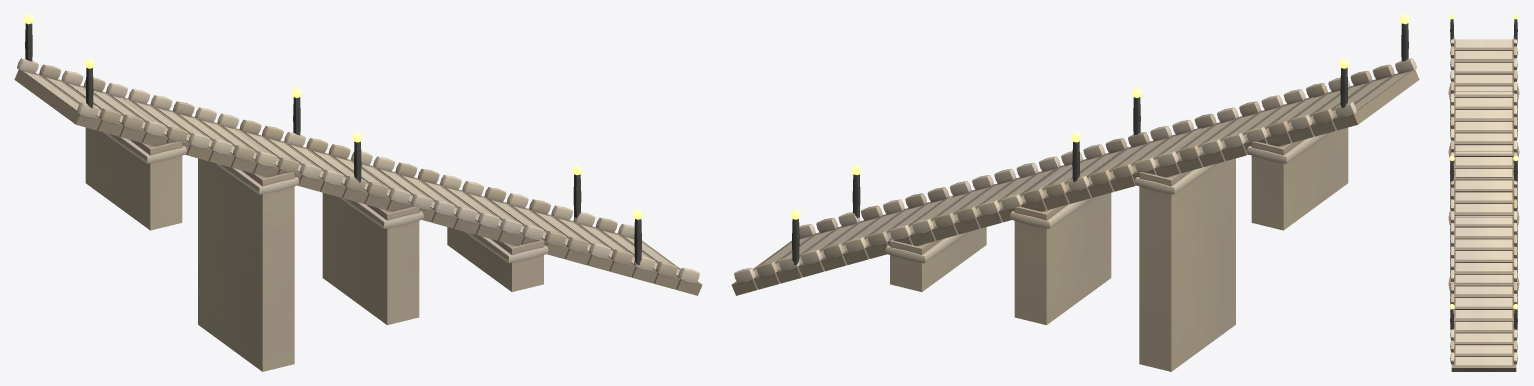
File: causeway.glb
The picture shows the model from 3 angles, left to right: view 1: azimuth 30°, elevation 25°; view 2: azimuth 150°, elevation 25°; view 3: azimuth 270°, elevation 25°; orthographic projection. The views are drawn at different scales.
Visible parts, largest first — view 1: main; view 2: main; view 3: main, glow.
Part boxes in pixels (x1,y1,x2,y2): main: [14, 23, 702, 371]; main: [731, 23, 1419, 371]; main: [1448, 19, 1519, 371]; glow: [1449, 14, 1518, 309].
Bounding box in the file's own units: 47.05 × 27.63 × 8.8.
2 materials, 1 textured.
